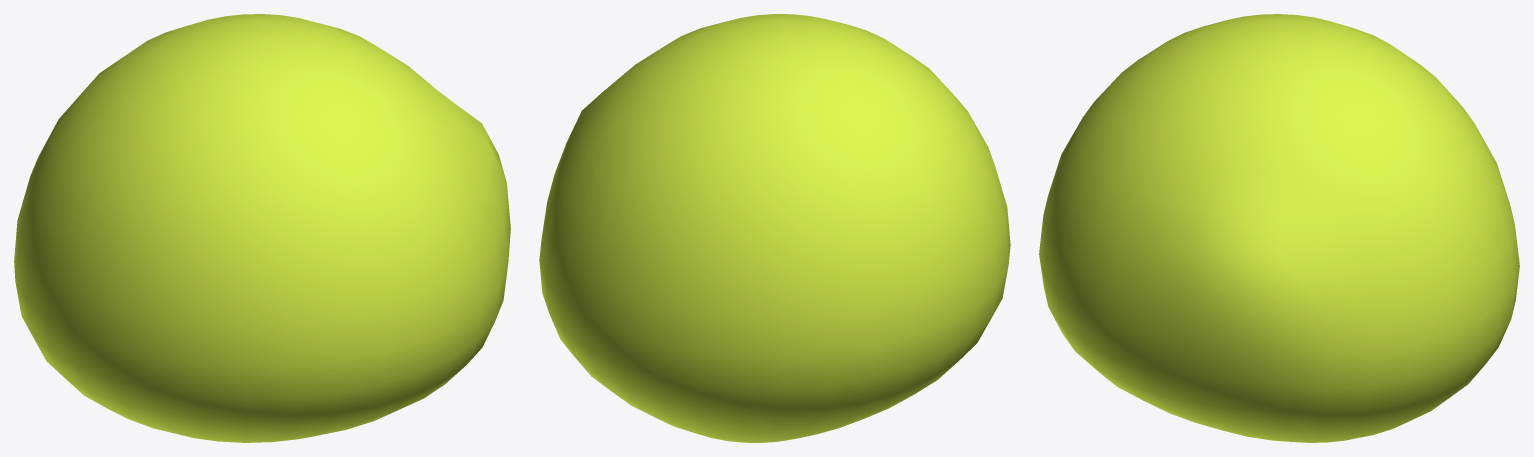
The model's file is Bala-Slime.fbx.
3 renders of one model, left to right at view 1: azimuth 30°, elevation 25°; view 2: azimuth 150°, elevation 25°; view 3: azimuth 270°, elevation 25°, orthographic. The views are drawn at different scales.
Visible parts, largest first — view 1: Slime Mesh.005; view 2: Slime Mesh.005; view 3: Slime Mesh.005.
Boxes of the visible parts, x1,y1,x2,y2 form: Slime Mesh.005: (14, 14, 510, 442); Slime Mesh.005: (539, 14, 1010, 442); Slime Mesh.005: (1039, 14, 1519, 442).
Size of the model in its own units: 20.53 by 17.91 by 20.34.
